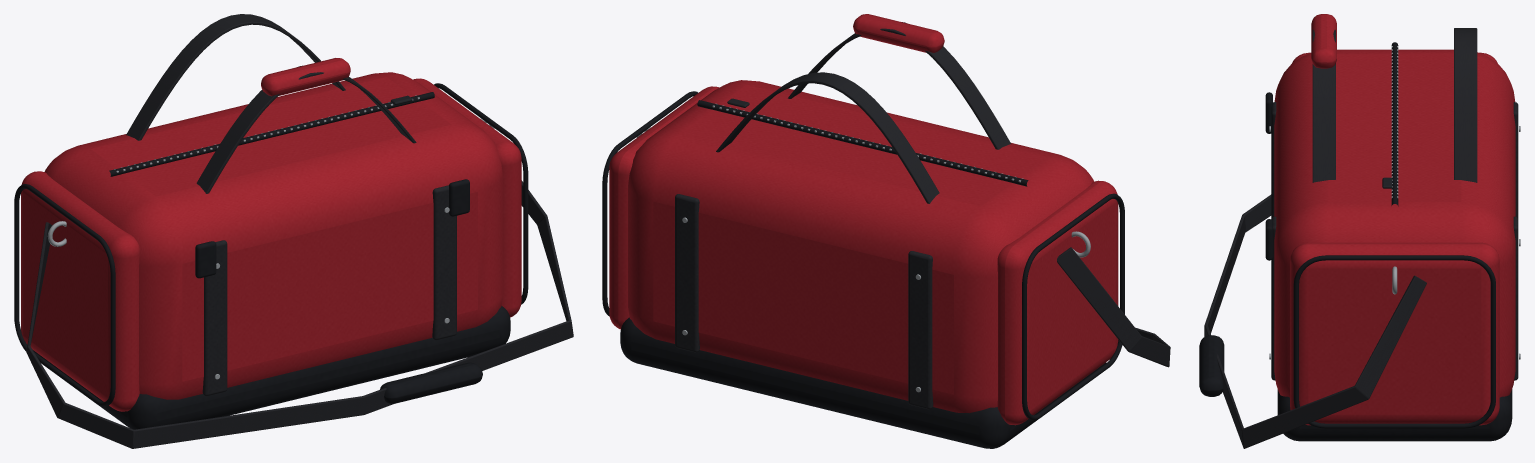
The model's file is 14_red_sports_bag.glb.
3 renders of one model, left to right at view 1: azimuth 30°, elevation 25°; view 2: azimuth 150°, elevation 25°; view 3: azimuth 270°, elevation 25°, orthographic. The views are drawn at different scales.
Visible parts, largest first — view 1: 14_red_sports_bag__soft_canvas_body, 14_red_sports_bag__end_pocket, 14_red_sports_bag__loose_shoulder_strap, 14_red_sports_bag__reinforced_bottom, 14_red_sports_bag__end_pocket.001, 14_red_sports_bag__webbing_band.002, 14_red_sports_bag__carry_handle.001, 14_red_sports_bag__webbing_band, 14_red_sports_bag__pocket_piping, 14_red_sports_bag__carry_handle, 14_red_sports_bag__shoulder_pad, 14_red_sports_bag__red_handle_grip (+4 smaller); view 2: 14_red_sports_bag__soft_canvas_body, 14_red_sports_bag__end_pocket, 14_red_sports_bag__reinforced_bottom, 14_red_sports_bag__end_pocket.001, 14_red_sports_bag__webbing_band.001, 14_red_sports_bag__webbing_band.003, 14_red_sports_bag__carry_handle.001, 14_red_sports_bag__loose_shoulder_strap, 14_red_sports_bag__pocket_piping, 14_red_sports_bag__carry_handle, 14_red_sports_bag__red_handle_grip, 14_red_sports_bag__top_zipper (+1 smaller); view 3: 14_red_sports_bag__soft_canvas_body, 14_red_sports_bag__end_pocket.001, 14_red_sports_bag__loose_shoulder_strap, 14_red_sports_bag__pocket_piping.001, 14_red_sports_bag__reinforced_bottom, 14_red_sports_bag__carry_handle.001, 14_red_sports_bag__carry_handle, 14_red_sports_bag__shoulder_pad, 14_red_sports_bag__red_handle_grip, 14_red_sports_bag__top_zipper, 14_red_sports_bag__webbing_band.003, 14_red_sports_bag__webbing_band.002 (+2 smaller).
Boxes of the visible parts, x1,y1,x2,y2 form: 14_red_sports_bag__soft_canvas_body: [44, 72, 503, 399]; 14_red_sports_bag__end_pocket: [21, 171, 139, 411]; 14_red_sports_bag__loose_shoulder_strap: [26, 180, 573, 448]; 14_red_sports_bag__reinforced_bottom: [33, 306, 510, 429]; 14_red_sports_bag__end_pocket.001: [413, 78, 521, 317]; 14_red_sports_bag__webbing_band.002: [432, 185, 456, 340]; 14_red_sports_bag__carry_handle.001: [126, 14, 345, 140]; 14_red_sports_bag__webbing_band: [202, 240, 227, 396]; 14_red_sports_bag__pocket_piping: [14, 184, 115, 406]; 14_red_sports_bag__carry_handle: [196, 65, 416, 193]; 14_red_sports_bag__shoulder_pad: [380, 362, 482, 403]; 14_red_sports_bag__red_handle_grip: [261, 58, 350, 96]; 14_red_sports_bag__soft_canvas_body: [628, 80, 1093, 413]; 14_red_sports_bag__end_pocket: [997, 180, 1118, 425]; 14_red_sports_bag__reinforced_bottom: [620, 317, 1106, 448]; 14_red_sports_bag__end_pocket.001: [609, 86, 719, 329]; 14_red_sports_bag__webbing_band.001: [908, 251, 933, 409]; 14_red_sports_bag__webbing_band.003: [675, 194, 699, 352]; 14_red_sports_bag__carry_handle.001: [716, 72, 939, 203]; 14_red_sports_bag__loose_shoulder_strap: [1057, 247, 1170, 367]; 14_red_sports_bag__pocket_piping: [1022, 193, 1124, 420]; 14_red_sports_bag__carry_handle: [788, 22, 1011, 149]; 14_red_sports_bag__red_handle_grip: [853, 14, 944, 52]; 14_red_sports_bag__top_zipper: [697, 100, 1028, 186]; 14_red_sports_bag__soft_canvas_body: [1274, 49, 1515, 397]; 14_red_sports_bag__end_pocket.001: [1290, 242, 1499, 425]; 14_red_sports_bag__loose_shoulder_strap: [1204, 194, 1426, 448]; 14_red_sports_bag__pocket_piping.001: [1293, 255, 1495, 428]; 14_red_sports_bag__reinforced_bottom: [1277, 389, 1512, 441]; 14_red_sports_bag__carry_handle.001: [1454, 28, 1477, 182]; 14_red_sports_bag__carry_handle: [1312, 29, 1335, 182]; 14_red_sports_bag__shoulder_pad: [1199, 335, 1224, 396]; 14_red_sports_bag__red_handle_grip: [1311, 14, 1336, 68]; 14_red_sports_bag__top_zipper: [1391, 42, 1398, 206]; 14_red_sports_bag__webbing_band.003: [1513, 216, 1518, 380]; 14_red_sports_bag__webbing_band.002: [1271, 216, 1276, 380].
Size of the model in its own units: 0.732 by 0.4275 by 0.386.
5 materials, 5 textured.
